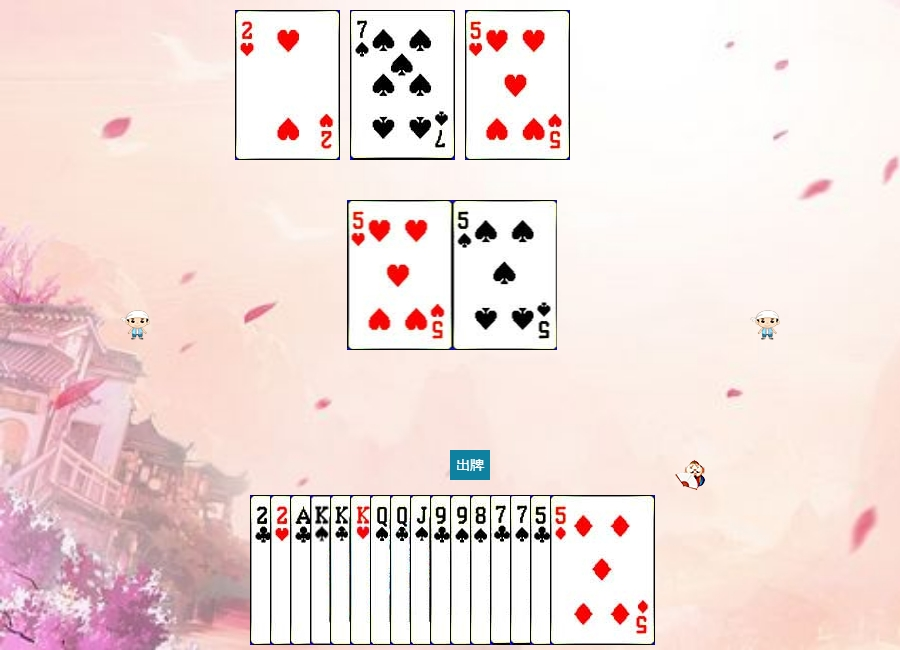11~4: (410, 495, 515, 645)
12~2: (390, 495, 495, 645)
12~4: (370, 495, 475, 645)
13~2: (330, 495, 435, 645)
13~3: (350, 495, 455, 645)
13~4: (310, 495, 415, 645)
14~2: (290, 495, 395, 645)
15~2: (250, 495, 355, 645)
15~3: (235, 10, 340, 160), (270, 495, 375, 645)
5~1: (550, 495, 655, 645)
5~2: (530, 495, 635, 645)
5~3: (465, 10, 570, 160), (348, 200, 453, 350)
5~4: (453, 200, 558, 350)
7~2: (490, 495, 595, 645)
7~4: (350, 10, 455, 160), (510, 495, 615, 645)
8~4: (470, 495, 575, 645)
9~2: (430, 495, 535, 645)
9~4: (450, 495, 555, 645)
